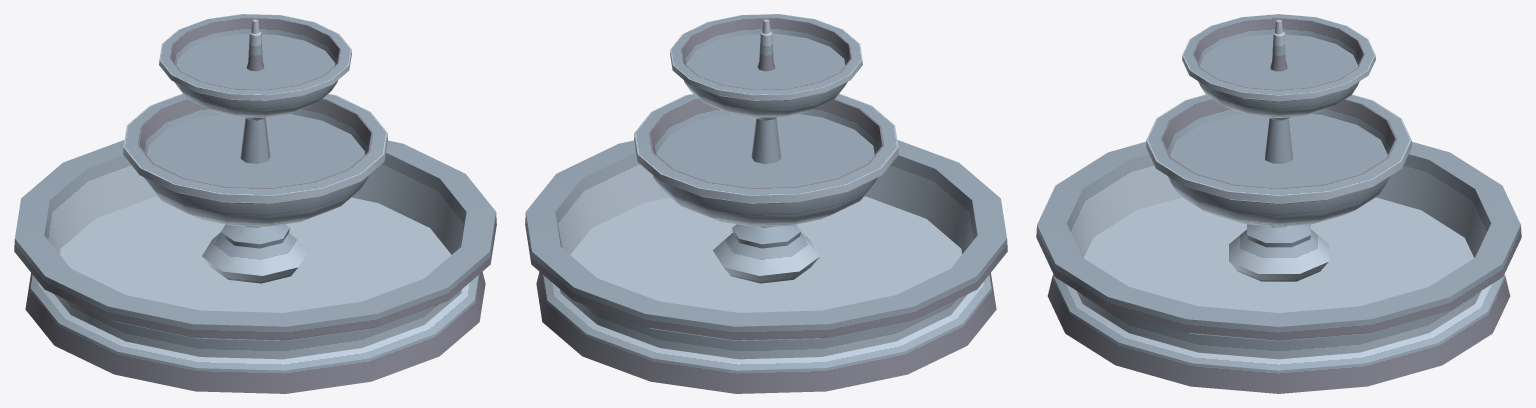
File: fuente.fbx
3 views of the same model, side by side, from view 1: azimuth 30°, elevation 25°; view 2: azimuth 150°, elevation 25°; view 3: azimuth 270°, elevation 25° (orthographic).
Visible parts, largest first — view 1: fuente; view 2: fuente; view 3: fuente.
Part boxes in pixels (x1=…): fuente: x1=14, y1=14, x2=496, y2=393; fuente: x1=525, y1=14, x2=1007, y2=393; fuente: x1=1036, y1=14, x2=1521, y2=393.
Bounding box in the file's own units: 912 × 570 × 912.
